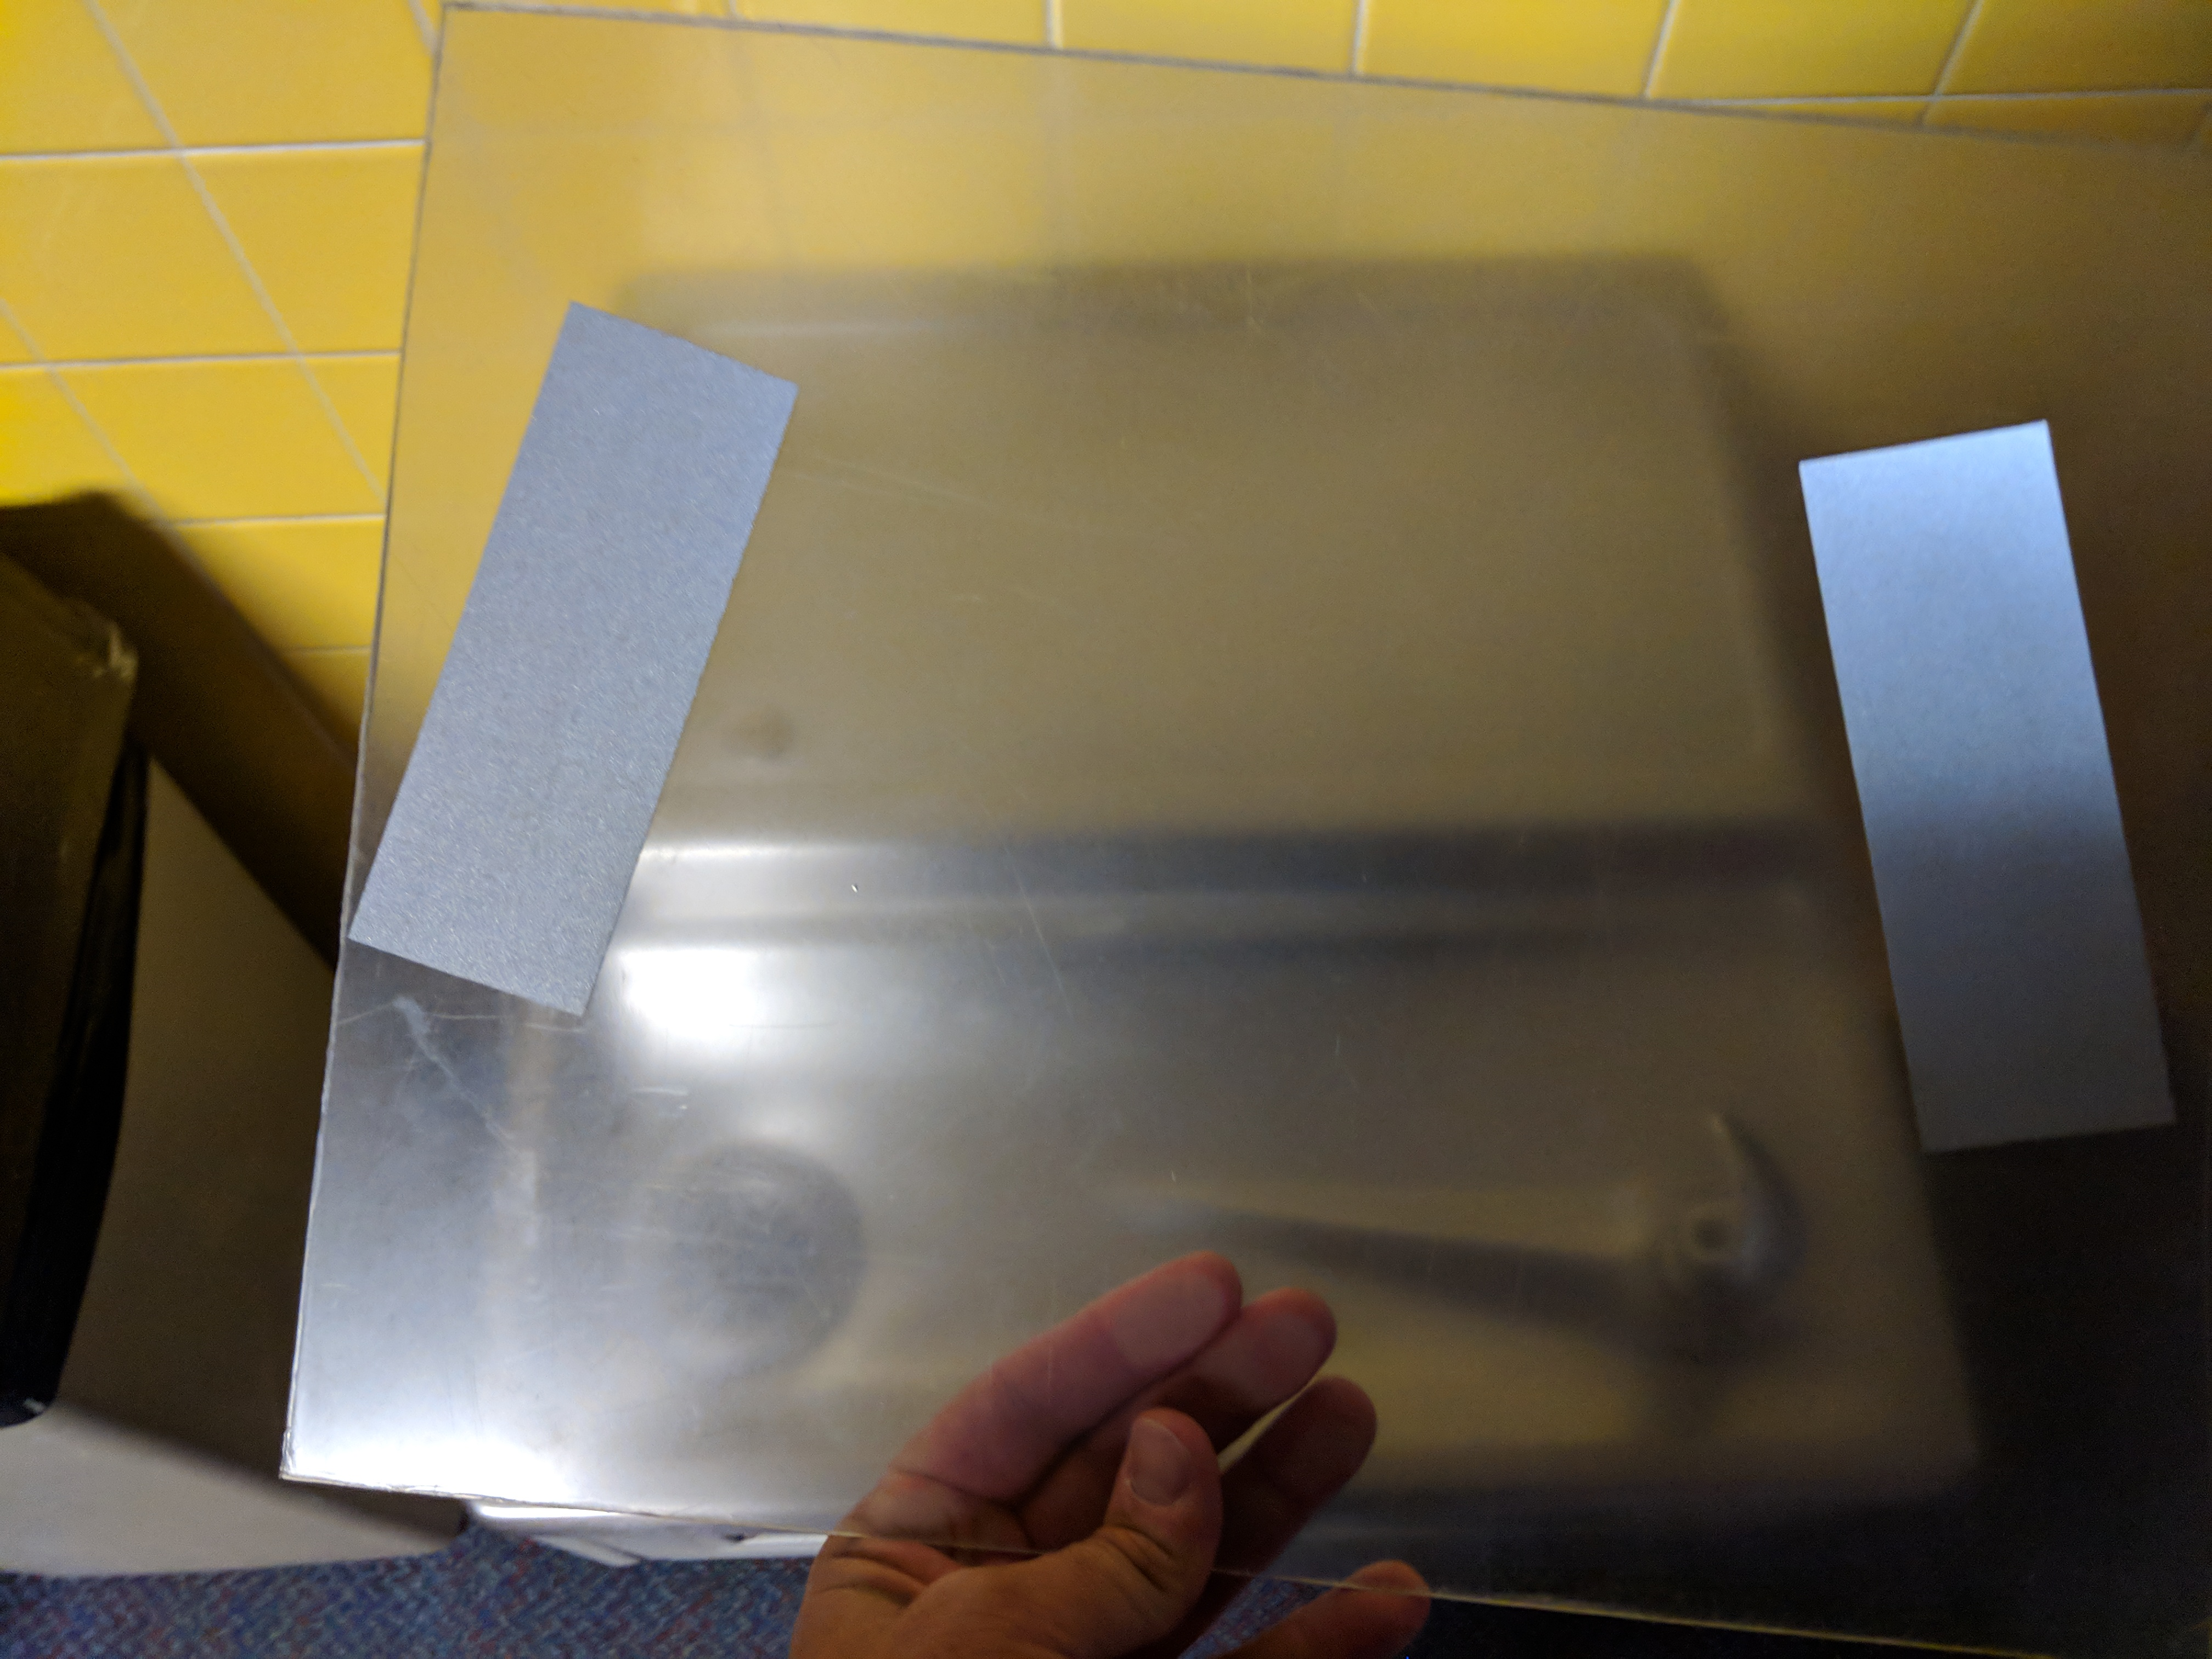vision_target: (333, 286, 2195, 1178)
